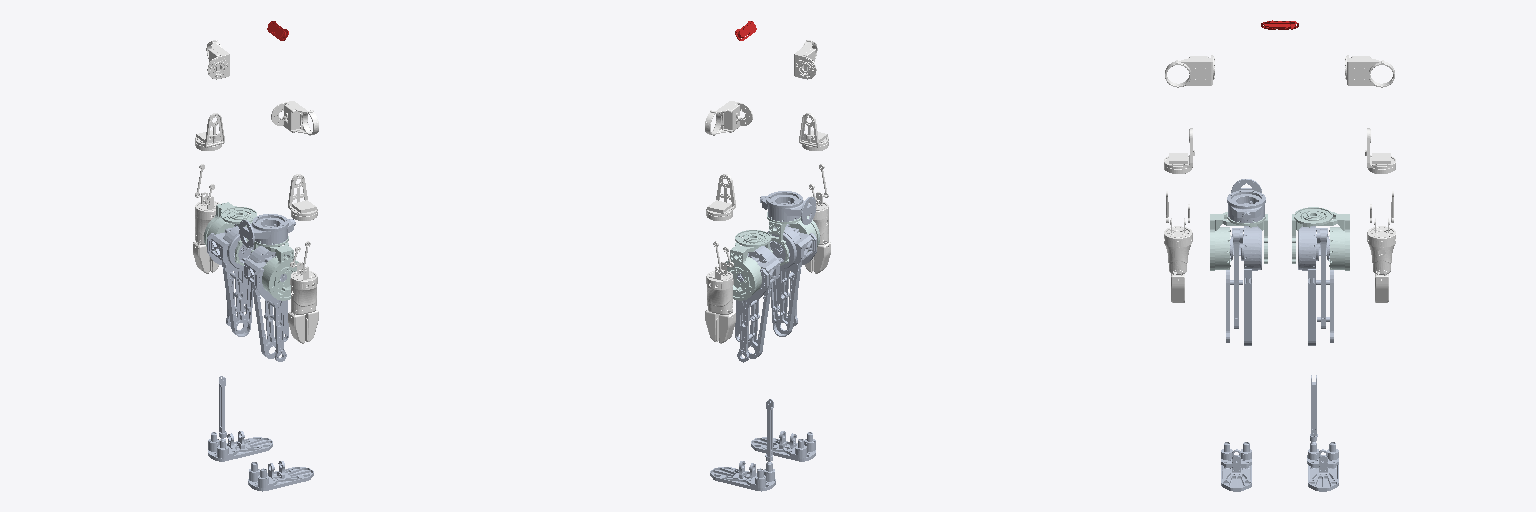
--- Render facts (derived) ---
3 views of the same robot in one strip: view 1: azimuth 30°, elevation 25°; view 2: azimuth 150°, elevation 25°; view 3: azimuth 270°, elevation 25° (orthographic).
Robot: kuavo_with_finger — 51 links, 50 joints (14 revolute, 28 continuous, 2 prismatic, 6 fixed); root link dummy; default pose: every joint at zero.
Visible links, largest first — view 1: l_leg_pitch, r_leg_pitch, r_leg_yaw, r_leg_roll, r_foot_roll, l_foot_roll, l_leg_yaw, r_arm_pitch, r_joller, r_forearm_pitch, l_arm_pitch, l_forearm_pitch; view 2: r_leg_pitch, l_leg_pitch, l_leg_yaw, r_leg_roll, l_foot_roll, r_foot_roll, l_arm_pitch, l_joller, l_forearm_pitch, r_leg_yaw, r_arm_pitch, r_forearm_pitch; view 3: l_leg_pitch, r_leg_pitch, l_leg_yaw, r_leg_yaw, r_leg_roll, l_foot_roll, r_foot_roll, l_arm_pitch, r_arm_pitch, l_joller, r_joller, l_forearm_pitch (+1 smaller).
Boxes of the visible links, box(x1,y1,x2,y2) form: l_leg_pitch: box(207, 224, 258, 336); r_leg_pitch: box(244, 246, 288, 361); r_leg_yaw: box(251, 236, 299, 300); r_leg_roll: box(239, 214, 295, 247); r_foot_roll: box(248, 461, 313, 491); l_foot_roll: box(208, 431, 272, 461); l_leg_yaw: box(204, 202, 258, 265); r_arm_pitch: box(271, 101, 318, 135); r_joller: box(290, 271, 317, 314); r_forearm_pitch: box(288, 174, 317, 220); l_arm_pitch: box(206, 40, 229, 79); l_forearm_pitch: box(195, 113, 224, 150); r_leg_pitch: box(765, 224, 816, 336); l_leg_pitch: box(735, 246, 779, 362); l_leg_yaw: box(724, 230, 772, 300); r_leg_roll: box(760, 191, 815, 224); l_foot_roll: box(710, 461, 775, 491); r_foot_roll: box(751, 431, 815, 461); l_arm_pitch: box(705, 101, 752, 135); l_joller: box(706, 271, 733, 314); l_forearm_pitch: box(706, 174, 735, 220); r_leg_yaw: box(765, 212, 819, 265); r_arm_pitch: box(794, 40, 817, 79); r_forearm_pitch: box(799, 113, 828, 150); l_leg_pitch: box(1298, 226, 1333, 345); r_leg_pitch: box(1226, 226, 1261, 345); l_leg_yaw: box(1292, 207, 1349, 270); r_leg_yaw: box(1210, 212, 1267, 270); r_leg_roll: box(1227, 179, 1265, 222); l_foot_roll: box(1307, 442, 1338, 491); r_foot_roll: box(1221, 442, 1251, 491); l_arm_pitch: box(1345, 55, 1394, 87); r_arm_pitch: box(1165, 55, 1214, 87); l_joller: box(1367, 226, 1395, 275); r_joller: box(1164, 226, 1192, 275); l_forearm_pitch: box(1365, 128, 1395, 173).
Bounding box of the posed robot: 0.1955 × 0.604 × 1.33 m (x, y, z).
Meshes: 50 distinct files referenced, 25 mesh visuals loaded (25 binary STL); not drawn: 25 (reference not matched to a file when rendering).

URDF robot description (kuavo_with_finger):
<?xml version="1.0" encoding="utf-8"?>
<!-- This URDF was automatically created by SolidWorks to URDF Exporter! Originally created by Stephen Brawner ([email redacted]) 
     Commit Version: 1.6.0-4-g7f85cfe  Build Version: 1.6.7995.38578
     For more information, please see http://wiki.ros.org/sw_urdf_exporter -->
<robot
  name="kuavo_with_finger">
  <link name="dummy"> 
  </link>
  <link
    name="base_link">
    <inertial>
      <origin
        xyz="-0.00699293960383693 0.0015563322026791 0.152865943474551"
        rpy="0 0 0" />
      <mass
        value="7.71324827879796" />
      <inertia
        ixx="0.0426865291661996"
        ixy="1.85724164384347E-06"
        ixz="0.0010941107421191"
        iyy="0.0204121253968209"
        iyz="-3.14875771305023E-06"
        izz="0.0372747742848548" />
    </inertial>
    <visual>
      <origin
        xyz="0 0 0"
        rpy="0 0 0" />
      <geometry>
        <mesh
          filename="package://kuavo_with_finger/meshes/base_link.STL" />
      </geometry>
      <material
        name="">
        <color
          rgba="0.862745098039216 0.933333333333333 0.929411764705882 1" />
      </material>
    </visual>
    <collision>
      <origin
        xyz="0 0 0"
        rpy="0 0 0" />
      <geometry>
        <mesh
          filename="package://kuavo_with_finger/meshes/base_link.STL" />
      </geometry>
    </collision>
  </link>
  <joint name="dummy_joint" type="fixed">
     <parent link="dummy"/>
     <child link="base_link"/>
  </joint>
  <link
    name="l_leg_roll">
    <inertial>
      <origin
        xyz="0.0607642758367597 0.000140341287204124 0.00228371917512797"
        rpy="0 0 0" />
      <mass
        value="0.118529537524385" />
      <inertia
        ixx="0.000100527370735922"
        ixy="-1.2100126944566E-09"
        ixz="-5.73994022636998E-06"
        iyy="0.000266846737510275"
        iyz="-1.09965529112337E-07"
        izz="0.000326428442604199" />
    </inertial>
    <visual>
      <origin
        xyz="0 0 0"
        rpy="0 0 0" />
      <geometry>
        <mesh
          filename="package://kuavo_with_finger/meshes/l_leg_roll.STL" />
      </geometry>
      <material
        name="">
        <color
          rgba="0.862745098039216 0.933333333333333 0.929411764705882 1" />
      </material>
    </visual>
    <collision>
      <origin
        xyz="0 0 0"
        rpy="0 0 0" />
      <geometry>
        <mesh
          filename="package://kuavo_with_finger/meshes/l_leg_roll.STL" />
      </geometry>
    </collision>
  </link>
  <joint
    name="l_leg_roll"
    type="continuous">
    <origin
      xyz="-0.0756149468145449 0.087 -0.0720754569616772"
      rpy="0 0 0" />
    <parent
      link="base_link" />
    <child
      link="l_leg_roll" />
    <axis
      xyz="-1 0 0" />
  </joint>
  <link
    name="l_leg_yaw">
    <inertial>
      <origin
        xyz="0.000290902697264875 0.0405087424467619 -0.100846923361789"
        rpy="0 0 0" />
      <mass
        value="0.20405278020544" />
      <inertia
        ixx="0.000304319732135482"
        ixy="6.81277324993583E-07"
        ixz="5.1435329520149E-07"
        iyy="0.000364082147695824"
        iyz="2.16417948537574E-06"
        izz="0.000267287713044087" />
    </inertial>
    <visual>
      <origin
        xyz="0 0 0"
        rpy="0 0 0" />
      <geometry>
        <mesh
          filename="package://kuavo_with_finger/meshes/l_leg_yaw.STL" />
      </geometry>
      <material
        name="">
        <color
          rgba="0.862745098039216 0.933333333333333 0.929411764705882 1" />
      </material>
    </visual>
    <collision>
      <origin
        xyz="0 0 0"
        rpy="0 0 0" />
      <geometry>
        <mesh
          filename="package://kuavo_with_finger/meshes/l_leg_yaw.STL" />
      </geometry>
    </collision>
  </link>
  <joint
    name="l_leg_yaw"
    type="continuous">
    <origin
      xyz="0.0735 0 0.0130000000000001"
      rpy="0 0 0" />
    <parent
      link="l_leg_roll" />
    <child
      link="l_leg_yaw" />
    <axis
      xyz="0 0 1" />
  </joint>
  <link
    name="l_leg_pitch">
    <inertial>
      <origin
        xyz="-0.00528235933691827 -0.0878849862537982 -0.0568009986671622"
        rpy="0 0 0" />
      <mass
        value="0.45065011418642" />
      <inertia
        ixx="0.00148456678733155"
        ixy="-2.29184752662021E-05"
        ixz="0.000131476982175566"
        iyy="0.00177807990369305"
        iyz="7.48554604302085E-06"
        izz="0.000394925298656241" />
    </inertial>
    <visual>
      <origin
        xyz="0 0 0"
        rpy="0 0 0" />
      <geometry>
        <mesh
          filename="package://kuavo_with_finger/meshes/l_leg_pitch.STL" />
      </geometry>
      <material
        name="">
        <color
          rgba="0.807843137254902 0.843137254901961 0.905882352941176 1" />
      </material>
    </visual>
    <collision>
      <origin
        xyz="0 0 0"
        rpy="0 0 0" />
      <geometry>
        <mesh
          filename="package://kuavo_with_finger/meshes/l_leg_pitch.STL" />
      </geometry>
    </collision>
  </link>
  <joint
    name="l_leg_pitch"
    type="continuous">
    <origin
      xyz="0 0.0939999999999999 -0.13645"
      rpy="0 0 0" />
    <parent
      link="l_leg_yaw" />
    <child
      link="l_leg_pitch" />
    <axis
      xyz="0 -1 0" />
  </joint>
  <link
    name="l_knee">
    <inertial>
      <origin
        xyz="0.000868873637859802 -5.03011046766866E-05 -0.13314742049396"
        rpy="0 0 0" />
      <mass
        value="0.817175320465059" />
      <inertia
        ixx="0.00786383933470877"
        ixy="-3.13623718617459E-08"
        ixz="-7.89544117443064E-05"
        iyy="0.00810808189051411"
        iyz="-6.80654926871359E-05"
        izz="0.000441233410542845" />
    </inertial>
    <visual>
      <origin
        xyz="0 0 0"
        rpy="0 0 0" />
      <geometry>
        <mesh
          filename="package://kuavo_with_finger/meshes/l_knee.STL" />
      </geometry>
      <material
        name="">
        <color
          rgba="0.898039215686275 0.917647058823529 0.929411764705882 1" />
      </material>
    </visual>
    <collision>
      <origin
        xyz="0 0 0"
        rpy="0 0 0" />
      <geometry>
        <mesh
          filename="package://kuavo_with_finger/meshes/l_knee.STL" />
      </geometry>
    </collision>
  </link>
  <joint
    name="l_knee"
    type="continuous">
    <origin
      xyz="0.00413596009601052 -0.0686389599620252 -0.249965785326798"
      rpy="0 0 0" />
    <parent
      link="l_leg_pitch" />
    <child
      link="l_knee" />
    <axis
      xyz="0 1 0" />
  </joint>
  <link
    name="l_foot_pitch">
    <inertial>
      <origin
        xyz="-2.2094915482114E-07 -0.0210002209491548 0.000142421968554962"
        rpy="0 0 0" />
      <mass
        value="0.00898868764931505" />
      <inertia
        ixx="8.64757693496474E-07"
        ixy="4.38814004225991E-16"
        ixz="3.49395618884054E-11"
        iyy="8.64757693496479E-07"
        iyz="-3.54041160032427E-11"
        izz="1.52124214524266E-06" />
    </inertial>
    <visual>
      <origin
        xyz="0 0 0"
        rpy="0 0 0" />
      <geometry>
        <mesh
          filename="package://kuavo_with_finger/meshes/l_foot_pitch.STL" />
      </geometry>
      <material
        name="">
        <color
          rgba="0.807843137254902 0.843137254901961 0.905882352941176 1" />
      </material>
    </visual>
    <collision>
      <origin
        xyz="0 0 0"
        rpy="0 0 0" />
      <geometry>
        <mesh
          filename="package://kuavo_with_finger/meshes/l_foot_pitch.STL" />
      </geometry>
    </collision>
  </link>
  <joint
    name="l_foot_pitch"
    type="continuous">
    <origin
      xyz="9.39839333040909E-05 0.0209999999999999 -0.346142421968556"
      rpy="0 0 0" />
    <parent
      link="l_knee" />
    <child
      link="l_foot_pitch" />
    <axis
      xyz="0 -1 0" />
  </joint>
  <link
    name="l_foot_roll">
    <inertial>
      <origin
        xyz="-0.0432253086252035 -8.8310914127393E-06 -0.023190030964678"
        rpy="0 0 0" />
      <mass
        value="0.48595336841054" />
      <inertia
        ixx="0.000157873471834251"
        ixy="1.96472635084538E-08"
        ixz="2.65605381022489E-06"
        iyy="0.000645275398662567"
        iyz="1.31456982241223E-08"
        izz="0.000765587215075718" />
    </inertial>
    <visual>
      <origin
        xyz="0 0 0"
        rpy="0 0 0" />
      <geometry>
        <mesh
          filename="package://kuavo_with_finger/meshes/l_foot_roll.STL" />
      </geometry>
      <material
        name="">
        <color
          rgba="0.807843137254902 0.843137254901961 0.905882352941176 1" />
      </material>
    </visual>
    <collision>
      <origin
        xyz="0 0 0"
        rpy="0 0 0" />
      <geometry>
        <mesh
          filename="package://kuavo_with_finger/meshes/l_foot_roll.STL" />
      </geometry>
    </collision>
  </link>
  <joint
    name="l_foot_roll"
    type="continuous">
    <origin
      xyz="0.021 -0.021 0.000142421968555073"
      rpy="0 0 0" />
    <parent
      link="l_foot_pitch" />
    <child
      link="l_foot_roll" />
    <axis
      xyz="-1 0 0" />
  </joint>
  <link
    name="l_l_bar">
    <inertial>
      <origin
        xyz="-0.0181620534088889 0.00538550541831453 0.00188897487292894"
        rpy="0 0 0" />
      <mass
        value="0.00874829869457795" />
      <inertia
        ixx="1.10769540266514E-06"
        ixy="-5.91415258727675E-07"
        ixz="4.29488265882082E-07"
        iyy="5.99983084859914E-06"
        iyz="6.15112516111373E-08"
        izz="5.19245227970593E-06" />
    </inertial>
    <visual>
      <origin
        xyz="0 0 0"
        rpy="0 0 0" />
      <geometry>
        <mesh
          filename="package://kuavo_with_finger/meshes/l_l_bar.STL" />
      </geometry>
      <material
        name="">
        <color
          rgba="0.807843137254902 0.843137254901961 0.905882352941176 1" />
      </material>
    </visual>
    <collision>
      <origin
        xyz="0 0 0"
        rpy="0 0 0" />
      <geometry>
        <mesh
          filename="package://kuavo_with_finger/meshes/l_l_bar.STL" />
      </geometry>
    </collision>
  </link>
  <joint
    name="l_l_bar"
    type="continuous">
    <origin
      xyz="9.39839333040753E-05 0.0294999999999999 -0.090000000000001"
      rpy="0 0 0" />
    <parent
      link="l_knee" />
    <child
      link="l_l_bar" />
    <axis
      xyz="0 -1 0" />
  </joint>
  <link
    name="l_l_tendon">
    <inertial>
      <origin
        xyz="0.00118321709757755 3.75294202367704E-06 -0.20744528844336"
        rpy="0 0 0" />
      <mass
        value="0.083522124317674" />
      <inertia
        ixx="0.000108457869310121"
        ixy="6.02846811569607E-13"
        ixz="3.21348766559875E-09"
        iyy="0.000108256478541275"
        iyz="-5.12951685911342E-08"
        izz="3.33663310062301E-06" />
    </inertial>
    <visual>
      <origin
        xyz="0 0 0"
        rpy="0 0 0" />
      <geometry>
        <mesh
          filename="package://kuavo_with_finger/meshes/l_l_tendon.STL" />
      </geometry>
      <material
        name="">
        <color
          rgba="0.807843137254902 0.843137254901961 0.905882352941176 1" />
      </material>
    </visual>
    <collision>
      <origin
        xyz="0 0 0"
        rpy="0 0 0" />
      <geometry>
        <mesh
          filename="package://kuavo_with_finger/meshes/l_l_tendon.STL" />
      </geometry>
    </collision>
  </link>
  <joint
    name="l_l_tendon"
    type="continuous">
    <origin
      xyz="-0.0576888204074241 -0.00450000000000017 0.00599999999999978"
      rpy="0 0 0" />
    <parent
      link="l_l_bar" />
    <child
      link="l_l_tendon" />
    <axis
      xyz="0 1 0" />
  </joint>
  <link
    name="l_r_bar">
    <inertial>
      <origin
        xyz="-0.0181620475591471 -0.00340146093872844 0.00188896088462942"
        rpy="0 0 0" />
      <mass
        value="0.00874829655091911" />
      <inertia
        ixx="1.10769463312904E-06"
        ixy="5.9141495517061E-07"
        ixz="4.29484605237304E-07"
        iyy="5.99982880791329E-06"
        iyz="-6.15105156434383E-08"
        izz="5.19245102488259E-06" />
    </inertial>
    <visual>
      <origin
        xyz="0 0 0"
        rpy="0 0 0" />
      <geometry>
        <mesh
          filename="package://kuavo_with_finger/meshes/l_r_bar.STL" />
      </geometry>
      <material
        name="">
        <color
          rgba="0.807843137254902 0.843137254901961 0.905882352941176 1" />
      </material>
    </visual>
    <collision>
      <origin
        xyz="0 0 0"
        rpy="0 0 0" />
      <geometry>
        <mesh
          filename="package://kuavo_with_finger/meshes/l_r_bar.STL" />
      </geometry>
    </collision>
  </link>
  <joint
    name="l_r_bar"
    type="continuous">
    <origin
      xyz="9.39839333042539E-05 -0.0295 -0.153000000000001"
      rpy="0 0 0" />
    <parent
      link="l_knee" />
    <child
      link="l_r_bar" />
    <axis
      xyz="0 1 0" />
  </joint>
  <link
    name="l_r_tendon">
    <inertial>
      <origin
        xyz="0.00127016481106113 -0.000442399471844768 -0.157756039462114"
        rpy="0 0 0" />
      <mass
        value="0.0780668768936421" />
      <inertia
        ixx="4.62186588509114E-05"
        ixy="-1.94286496924929E-08"
        ixz="-2.70858374718146E-09"
        iyy="4.61278857103081E-05"
        iyz="3.666117089417E-08"
        izz="3.1548728466647E-06" />
    </inertial>
    <visual>
      <origin
        xyz="0 0 0"
        rpy="0 0 0" />
      <geometry>
        <mesh
          filename="package://kuavo_with_finger/meshes/l_r_tendon.STL" />
      </geometry>
      <material
        name="">
        <color
          rgba="0.807843137254902 0.843137254901961 0.905882352941176 1" />
      </material>
    </visual>
    <collision>
      <origin
        xyz="0 0 0"
        rpy="0 0 0" />
      <geometry>
        <mesh
          filename="package://kuavo_with_finger/meshes/l_r_tendon.STL" />
      </geometry>
    </collision>
  </link>
  <joint
    name="l_r_tendon"
    type="continuous">
    <origin
      xyz="-0.0576888204074239 0.00508602348130947 0.00600000000000012"
      rpy="0 0 0" />
    <parent
      link="l_r_bar" />
    <child
      link="l_r_tendon" />
    <axis
      xyz="0 -1 0" />
  </joint>
  <link
    name="r_leg_roll">
    <inertial>
      <origin
        xyz="0.0607646044341523 -0.000140365546816248 0.0022837710143182"
        rpy="0 0 0" />
      <mass
        value="0.11853067519234" />
      <inertia
        ixx="0.000100528224800769"
        ixy="8.5926722391623E-10"
        ixz="-5.74007648393741E-06"
        iyy="0.000266849167485496"
        iyz="1.09990636769441E-07"
        izz="0.000326431795353994" />
    </inertial>
    <visual>
      <origin
        xyz="0 0 0"
        rpy="0 0 0" />
      <geometry>
        <mesh
          filename="package://kuavo_with_finger/meshes/r_leg_roll.STL" />
      </geometry>
      <material
        name="">
        <color
          rgba="0.807843137254902 0.843137254901961 0.905882352941176 1" />
      </material>
    </visual>
    <collision>
      <origin
        xyz="0 0 0"
        rpy="0 0 0" />
      <geometry>
        <mesh
          filename="package://kuavo_with_finger/meshes/r_leg_roll.STL" />
      </geometry>
    </collision>
  </link>
  <joint
    name="r_leg_roll"
    type="continuous">
    <origin
      xyz="-0.0756149468145449 -0.087 -0.0720754569616772"
      rpy="0 0 0" />
    <parent
      link="base_link" />
    <child
      link="r_leg_roll" />
    <axis
      xyz="-1 0 0" />
  </joint>
  <link
    name="r_leg_yaw">
    <inertial>
      <origin
        xyz="0.000290901694932055 -0.0405086843275825 -0.100847259224443"
        rpy="0 0 0" />
      <mass
        value="0.204051628397563" />
      <inertia
        ixx="0.000304316594072443"
        ixy="-6.81313422907995E-07"
        ixz="5.14348465322561E-07"
        iyy="0.000364082222889467"
        iyz="-2.16425891305067E-06"
        izz="0.000267284560559922" />
    </inertial>
    <visual>
      <origin
        xyz="0 0 0"
        rpy="0 0 0" />
      <geometry>
        <mesh
          filename="package://kuavo_with_finger/meshes/r_leg_yaw.STL" />
      </geometry>
      <material
        name="">
        <color
          rgba="0.862745098039216 0.933333333333333 0.929411764705882 1" />
      </material>
    </visual>
    <collision>
      <origin
        xyz="0 0 0"
        rpy="0 0 0" />
      <geometry>
        <mesh
          filename="package://kuavo_with_finger/meshes/r_leg_yaw.STL" />
      </geometry>
    </collision>
  </link>
  <joint
    name="r_leg_yaw"
    type="continuous">
    <origin
      xyz="0.0735 0 0.0130000000000001"
      rpy="0 0 0" />
    <parent
      link="r_leg_roll" />
    <child
      link="r_leg_yaw" />
    <axis
      xyz="0 0 1" />
  </joint>
  <link
    name="r_leg_pitch">
    <inertial>
      <origin
        xyz="-0.00530844800069375 0.0879625104980525 -0.0562054035446188"
        rpy="0 0 0" />
      <mass
        value="0.448539615819603" />
      <inertia
        ixx="0.00148436919411102"
        ixy="2.29187023974564E-05"
        ixz="0.000131477003903541"
        iyy="0.00177802513573774"
        iyz="-7.48524907415416E-06"
        izz="0.000394727717573666" />
    </inertial>
    <visual>
      <origin
        xyz="0 0 0"
        rpy="0 0 0" />
      <geometry>
        <mesh
          filename="package://kuavo_with_finger/meshes/r_leg_pitch.STL" />
      </geometry>
      <material
        name="">
        <color
          rgba="0.807843137254902 0.843137254901961 0.905882352941176 1" />
      </material>
    </visual>
    <collision>
      <origin
        xyz="0 0 0"
        rpy="0 0 0" />
      <geometry>
        <mesh
          filename="package://kuavo_with_finger/meshes/r_leg_pitch.STL" />
      </geometry>
    </collision>
  </link>
  <joint
    name="r_leg_pitch"
    type="continuous">
    <origin
      xyz="0 -0.094 -0.13645"
      rpy="0 0 0" />
    <parent
      link="r_leg_yaw" />
    <child
      link="r_leg_pitch" />
    <axis
      xyz="0 -1 0" />
  </joint>
  <link
    name="r_knee">
    <inertial>
      <origin
        xyz="0.000566315767979648 -0.000357175271787816 -0.138852368476044"
        rpy="0 0 0" />
      <mass
        value="0.345443991337626" />
      <inertia
        ixx="0.00281310613866549"
        ixy="1.11070732712129E-08"
        ixz="-2.80899108975024E-05"
        iyy="0.00291126127187274"
        iyz="2.42218525823219E-05"
        izz="0.000171958211692171" />
    </inertial>
    <visual>
      <origin
        xyz="0 0 0"
        rpy="0 0 0" />
      <geometry>
        <mesh
          filename="package://kuavo_with_finger/meshes/r_knee.STL" />
      </geometry>
      <material
        name="">
        <color
          rgba="0.807843137254902 0.843137254901961 0.905882352941176 1" />
      </material>
    </visual>
    <collision>
      <origin
        xyz="0 0 0"
        rpy="0 0 0" />
      <geometry>
        <mesh
          filename="package://kuavo_with_finger/meshes/r_knee.STL" />
      </geometry>
    </collision>
  </link>
  <joint
    name="r_knee"
    type="continuous">
    <origin
      xyz="0.00413596009601069 0.0685500000000013 -0.249965785326798"
      rpy="0 0 0" />
    <parent
      link="r_leg_pitch" />
    <child
      link="r_knee" />
    <axis
      xyz="0 -1 0" />
  </joint>
  <link
    name="r_foot_pitch">
    <inertial>
      <origin
        xyz="-2.20949154777772E-07 0.0210002209491547 -1.11022302462516E-16"
        rpy="0 0 0" />
      <mass
        value="0.00898868764931501" />
      <inertia
        ixx="8.64757693496473E-07"
        ixy="-4.3881326068459E-16"
        ixz="-3.4939561888581E-11"
        iyy="8.64757693496477E-07"
        iyz="-3.44750077743079E-11"
        izz="1.52124214524266E-06" />
    </inertial>
    <visual>
      <origin
        xyz="0 0 0"
        rpy="0 0 0" />
      <geometry>
        <mesh
          filename="package://kuavo_with_finger/meshes/r_foot_pitch.STL" />
      </geometry>
      <material
        name="">
        <color
          rgba="0.807843137254902 0.843137254901961 0.905882352941176 1" />
      </material>
    </visual>
    <collision>
      <origin
        xyz="0 0 0"
        rpy="0 0 0" />
      <geometry>
        <mesh
          filename="package://kuavo_with_finger/meshes/r_foot_pitch.STL" />
      </geometry>
    </collision>
  </link>
  <joint
    name="r_foot_pitch"
    type="continuous">
    <origin
      xyz="0 -0.021 -0.346000000000001"
      rpy="0 0 0" />
    <parent
      link="r_knee" />
    <child
      link="r_foot_pitch" />
    <axis
      xyz="0 -1 0" />
  </joint>
  <link
    name="r_foot_roll">
    <inertial>
      <origin
        xyz="-0.0480333310327909 6.50581714088661E-06 -0.0208399753329805"
        rpy="0 0 0" />
      <mass
        value="0.235882377040623" />
      <inertia
        ixx="7.44704948330087E-05"
        ixy="-1.32306351261612E-08"
        ixz="2.64137221389746E-06"
        iyy="0.000241939144027172"
        iyz="-4.67780047970368E-09"
        izz="0.000291936005980864" />
    </inertial>
    <visual>
      <origin
        xyz="0 0 0"
        rpy="0 0 0" />
      <geometry>
        <mesh
          filename="package://kuavo_with_finger/meshes/r_foot_roll.STL" />
      </geometry>
      <material
        name="">
        <color
          rgba="0.807843137254902 0.843137254901961 0.905882352941176 1" />
      </material>
    </visual>
    <collision>
      <origin
        xyz="0 0 0"
        rpy="0 0 0" />
      <geometry>
        <mesh
          filename="package://kuavo_with_finger/meshes/r_foot_roll.STL" />
      </geometry>
    </collision>
  </link>
  <joint
    name="r_foot_roll"
    type="continuous">
    <origin
      xyz="0.021 0.0209999999999999 0"
      rpy="0 0 0" />
    <parent
      link="r_foot_pitch" />
    <child
      link="r_foot_roll" />
    <axis
      xyz="-1 0 0" />
  </joint>
  <link
    name="r_r_bar">
    <inertial>
      <origin
        xyz="-0.0181620509501375 -0.0054502400147324 0.00188897513882791"
        rpy="0 0 0" />
      <mass
        value="0.00874829774758129" />
      <inertia
        ixx="1.10769527904973E-06"
        ixy="5.91415050956591E-07"
        ixz="4.29488315443609E-07"
        iyy="5.99983036821143E-06"
        iyz="-6.15112771413719E-08"
        izz="5.19245168309841E-06" />
    </inertial>
    <visual>
      <origin
        xyz="0 0 0"
        rpy="0 0 0" />
      <geometry>
        <mesh
          filename="package://kuavo_with_finger/meshes/r_r_bar.STL" />
      </geometry>
      <material
        name="">
        <color
          rgba="0.807843137254902 0.843137254901961 0.905882352941176 1" />
      </material>
    </visual>
    <collision>
      <origin
        xyz="0 0 0"
        rpy="0 0 0" />
      <geometry>
        <mesh
          filename="package://kuavo_with_finger/meshes/r_r_bar.STL" />
      </geometry>
    </collision>
  </link>
  <joint
    name="r_r_bar"
    type="continuous">
    <origin
      xyz="0 -0.0294999999999999 -0.0900000000000002"
      rpy="0 0 0" />
    <parent
      link="r_knee" />
    <child
      link="r_r_bar" />
    <axis
      xyz="0 -1 0" />
  </joint>
  <link
    name="r_r_tendon">
    <inertial>
      <origin
        xyz="0.000958289233327532 -8.67055798317584E-06 -0.188485184943548"
        rpy="0 0 0" />
      <mass
        value="0.053802691494778" />
      <inertia
        ixx="0.000105952067897388"
        ixy="-6.66037719248345E-13"
        ixz="3.21302195385027E-09"
        iyy="0.000105645697160704"
        iyz="5.12952984445407E-08"
        izz="2.0950392625887E-06" />
    </inertial>
    <visual>
      <origin
        xyz="0 0 0"
        rpy="0 0 0" />
      <geometry>
        <mesh
          filename="package://kuavo_with_finger/meshes/r_r_tendon.STL" />
      </geometry>
      <material
        name="">
        <color
          rgba="0.807843137254902 0.843137254901961 0.905882352941176 1" />
      </material>
    </visual>
    <collision>
      <origin
        xyz="0 0 0"
        rpy="0 0 0" />
      <geometry>
        <mesh
          filename="package://kuavo_with_finger/meshes/r_r_tendon.STL" />
      </geometry>
    </collision>
  </link>
  <joint
    name="r_r_tendon"
    type="continuous">
    <origin
      xyz="-0.0576888204074261 0.00450000000000034 0.00599999999999878"
      rpy="0 0 0" />
    <parent
      link="r_r_bar" />
    <child
      link="r_r_tendon" />
    <axis
      xyz="0 1 0" />
  </joint>
  <link
    name="r_l_bar">
    <inertial>
      <origin
        xyz="-0.018162043904016 0.00326676157003555 0.00188895977905879"
        rpy="0 0 0" />
      <mass
        value="0.00874829521108898" />
      <inertia
        ixx="1.10769435536613E-06"
        ixy="-5.91414611386557E-07"
        ixz="4.29484364884761E-07"
        iyy="5.99982796081405E-06"
        iyz="6.15104069682222E-08"
        izz="5.19245005096644E-06" />
    </inertial>
    <visual>
      <origin
        xyz="0 0 0"
        rpy="0 0 0" />
      <geometry>
        <mesh
          filename="package://kuavo_with_finger/meshes/r_l_bar.STL" />
      </geometry>
      <material
        name="">
        <color
          rgba="0.807843137254902 0.843137254901961 0.905882352941176 1" />
      </material>
    </visual>
    <collision>
      <origin
        xyz="0 0 0"
        rpy="0 0 0" />
      <geometry>
        <mesh
          filename="package://kuavo_with_finger/meshes/r_l_bar.STL" />
      </geometry>
    </collision>
  </link>
  <joint
    name="r_l_bar"
    type="continuous">
    <origin
      xyz="0 0.0294999999999999 -0.153000000000001"
      rpy="0 0 0" />
    <parent
      link="r_knee" />
    <child
      link="r_l_bar" />
    <axis
      xyz="0 -1 0" />
  </joint>
  <link
    name="r_l_tendon">
    <inertial>
      <origin
        xyz="0.00106510158954518 9.64944022313619E-06 -0.144838777247632"
        rpy="0 0 0" />
      <mass
        value="0.0483474436719092" />
      <inertia
        ixx="4.37091223763635E-05"
        ixy="-9.08749132601232E-13"
        ixz="-2.70856208055649E-09"
        iyy="4.35208260635416E-05"
        iyz="-3.66615376299583E-08"
        izz="1.91327900390017E-06" />
    </inertial>
    <visual>
      <origin
        xyz="0 0 0"
        rpy="0 0 0" />
      <geometry>
        <mesh
          filename="package://kuavo_with_finger/meshes/r_l_tendon.STL" />
      </geometry>
      <material
        name="">
        <color
          rgba="0.807843137254902 0.843137254901961 0.905882352941176 1" />
      </material>
    </visual>
    <collision>
      <origin
        xyz="0 0 0"
        rpy="0 0 0" />
      <geometry>
        <mesh
          filename="package://kuavo_with_finger/meshes/r_l_tendon.STL" />
      </geometry>
    </collision>
  </link>
  <joint
    name="r_l_tendon"
    type="continuous">
    <origin
      xyz="-0.0576888204074239 -0.00449999999999988 0.00600000000000001"
      rpy="0 0 0" />
    <parent
      link="r_l_bar" />
    <child
      link="r_l_tendon" />
    <axis
      xyz="0 1 0" />
  </joint>
  <link
    name="l_arm_pitch">
    <inertial>
      <origin
        xyz="0.0214306014937492 0.0894803474436048 0.000615912525740503"
        rpy="0 0 0" />
      <mass
        value="0.0855565384250596" />
      <inertia
        ixx="0.000130680980046145"
        ixy="-2.8051476508872E-05"
        ixz="-4.43154983770418E-08"
        iyy="6.72732423481097E-05"
        iyz="-1.04235209424077E-06"
        izz="0.000113833719965484" />
    </inertial>
    <visual>
      <origin
        xyz="0 0 0"
        rpy="0 0 0" />
      <geometry>
        <mesh
          filename="package://kuavo_with_finger/meshes/l_arm_pitch.STL" />
      </geometry>
      <material
        name="">
        <color
          rgba="1 1 1 1" />
      </material>
    </visual>
    <collision>
      <origin
        xyz="0 0 0"
        rpy="0 0 0" />
      <geometry>
        <mesh
          filename="package://kuavo_with_finger/meshes/l_arm_pitch.STL" />
      </geometry>
    </collision>
  </link>
  <joint
    name="l_arm_pitch"
    type="revolute">
    <origin
      xyz="-0.0174998525199999 0.121 0.3145"
      rpy="0 0 0" />
    <parent
      link="base_link" />
    <child
      link="l_arm_pitch" />
    <axis
      xyz="0 1 0" />
    <limit velocity="1" effort="20" lower="-3.14" upper="0.523"/>
  </joint>
  <link
    name="l_arm_roll">
    <inertial>
      <origin
        xyz="-0.035737115963316 0.000637394005623571 -0.00293587457508399"
        rpy="0 0 0" />
      <mass
        value="0.243859089022774" />
      <inertia
        ixx="0.000128360157970662"
        ixy="6.10295766830322E-06"
        ixz="-1.04763903813656E-05"
        iyy="0.000190119380770336"
        iyz="1.1072652385836E-06"
        izz="0.000178903820792462" />
    </inertial>
    <visual>
      <origin
        xyz="0 0 0"
        rpy="0 0 0" />
      <geometry>
        <mesh
          filename="package://kuavo_with_finger/meshes/l_arm_roll.STL" />
      </geometry>
      <material
        name="">
        <color
          rgba="1 1 1 1" />
      </material>
    </visual>
    <collision>
      <origin
        xyz="0 0 0"
        rpy="0 0 0" />
      <geometry>
        <mesh
          filename="package://kuavo_with_finger/meshes/l_arm_roll.STL" />
      </geometry>
    </collision>
  </link>
  <joint
    name="l_arm_roll"
    type="revolute">
    <origin
      xyz="0.0638750000000005 0.143475 0"
      rpy="0 0 0" />
    <parent
      link="l_arm_pitch" />
    <child
      link="l_arm_roll" />
    <axis
      xyz="1 0 0" />
    <limit velocity="1" effort="20" lower="-0.348" upper="2.35"/>
  </joint>
  <link
    name="l_arm_yaw">
    <inertial>
      <origin
        xyz="-0.00019675455352383 -0.00200221985054488 -0.0822363960198868"
        rpy="0 0 0" />
      <mass
        value="0.231645925727573" />
      <inertia
        ixx="7.15763821808342E-05"
        ixy="-7.20357840527438E-07"
        ixz="1.28796345240436E-07"
        iyy="0.000116064001916274"
        iyz="-3.2453966347911E-06"
        izz="0.000102450224641922" />
    </inertial>
    <visual>
      <origin
        xyz="0 0 0"
        rpy="0 0 0" />
      <geometry>
        <mesh
          filename="package://kuavo_with_finger/meshes/l_arm_yaw.STL" />
      </geometry>
      <material
        name="">
        <color
          rgba="1 1 1 1" />
      </material>
    </visual>
    <collision>
      <origin
        xyz="0 0 0"
        rpy="0 0 0" />
      <geometry>
        <mesh
          filename="package://kuavo_with_finger/meshes/l_arm_yaw.STL" />
      </geometry>
    </collision>
  </link>
  <joint
    name="l_arm_yaw"
    type="revolute">
    <origin
      xyz="-0.0436732904500001 -0.000228544867618807 -0.0507499999999994"
      rpy="0 0 0" />
    <parent
      link="l_arm_roll" />
    <child
      link="l_arm_yaw" />
    <axis
      xyz="0 0.0045033014816499 0.999989860086474" />
    <limit velocity="1" effort="20" lower="-2.35" upper="2.35"/>
  </joint>
  <link
    name="l_forearm_pitch">
    <inertial>
      <origin
        xyz="-1.76621857937709E-09 0.0247675246684129 -0.0702638649593729"
        rpy="0 0 0" />
      <mass
        value="0.100717925891199" />
      <inertia
        ixx="6.81753177964767E-05"
        ixy="-1.3166203142267E-12"
        ixz="-2.01946858558698E-12"
        iyy="6.38358674774756E-05"
        iyz="1.22265699624491E-05"
        izz="7.39768830554407E-05" />
    </inertial>
    <visual>
      <origin
        xyz="0 0 0"
        rpy="0 0 0" />
      <geometry>
        <mesh
          filename="package://kuavo_with_finger/meshes/l_forearm_pitch.STL" />
      </geometry>
      <material
        name="">
        <color
          rgba="1 1 1 1" />
      </material>
    </visual>
    <collision>
      <origin
        xyz="0 0 0"
        rpy="0 0 0" />
      <geometry>
        <mesh
          filename="package://kuavo_with_finger/meshes/l_forearm_pitch.STL" />
      </geometry>
    </collision>
  </link>
  <joint
    name="l_forearm_pitch"
    type="revolute">
    <origin
      xyz="0 -0.0300214551323814 -0.1357"
      rpy="0 0 0" />
    <parent
      link="l_arm_yaw" />
    <child
      link="l_forearm_pitch" />
    <axis
      xyz="0 1 0" />
    <limit velocity="1" effort="20" lower="-1.9" upper="1.9"/>
  </joint>
  <link
    name="l_forearm_yaw">
    <inertial>
      <origin
        xyz="-0.00399570091504529 2.98471488310303E-05 -0.0656133809823524"
        rpy="0 0 0" />
      <mass
        value="0.156174407901059" />
      <inertia
        ixx="7.01872239868557E-05"
        ixy="-1.62696734264429E-07"
        ixz="-4.54392258183021E-07"
        iyy="7.29165229929405E-05"
        iyz="-7.23258736814215E-09"
        izz="6.87979464480366E-05" />
    </inertial>
    <visual>
      <origin
        xyz="0 0 0"
        rpy="0 0 0" />
      <geometry>
        <mesh
          filename="package://kuavo_with_finger/meshes/l_forearm_yaw.STL" />
      </geometry>
      <material
        name="">
        <color
          rgba="1 1 1 1" />
      </material>
    </visual>
    <collision>
      <origin
        xyz="0 0 0"
        rpy="0 0 0" />
      <geometry>
        <mesh
          filename="package://kuavo_with_finger/meshes/l_forearm_yaw.STL" />
      </geometry>
    </collision>
  </link>
  <joint
    name="l_forearm_yaw"
    type="revolute">
    <origin
      xyz="0 0.0302500000000002 -0.0915499999999999"
      rpy="0 0 0" />
    <parent
      link="l_forearm_pitch" />
    <child
      link="l_forearm_yaw" />
    <axis
      xyz="0 0 1" />
    <limit velocity="1" effort="20" lower="-2.35" upper="2.35"/>
  </joint>
  <link
    name="l_hand_roll">
    <inertial>
      <origin
        xyz="0.0166010838376317 1.21699082866744E-07 1.73724289204147E-07"
        rpy="0 0 0" />
      <mass
        value="0.00225080087545489" />
      <inertia
        ixx="1.93486939049626E-07"
        ixy="1.34751407910919E-12"
        ixz="-9.12379114185387E-13"
        iyy="1.3659940311531E-07"
        iyz="2.34311788925206E-12"
        izz="3.17250990444323E-07" />
    </inertial>
    <visual>
      <origin
        xyz="0 0 0"
        rpy="0 0 0" />
      <geometry>
        <mesh
          filename="package://kuavo_with_finger/meshes/l_hand_roll.STL" />
      </geometry>
      <material
        name="">
        <color
          rgba="1 1 1 1" />
      </material>
    </visual>
    <collision>
      <origin
        xyz="0 0 0"
        rpy="0 0 0" />
      <geometry>
        <mesh
          filename="package://kuavo_with_finger/meshes/l_hand_roll.STL" />
      </geometry>
    </collision>
  </link>
  <joint
    name="l_hand_roll"
    type="revolute">
    <origin
      xyz="-0.02532161695 0 -0.1575"
      rpy="0 0 0" />
    <parent
      link="l_forearm_yaw" />
    <child
      link="l_hand_roll" />
    <axis
      xyz="1 0 0" />
    <limit velocity="1" effort="20" lower="-1.2" upper="0.87"/>
  </joint>
  <link
    name="l_hand_pitch">
    <inertial>
      <origin
        xyz="0.00113576945968793 -0.000753137258270087 -0.0189034701930564"
        rpy="0 0 0" />
      <mass
        value="0.0102905223772605" />
      <inertia
        ixx="3.31594083274313E-06"
        ixy="-1.76514797840652E-10"
        ixz="2.90800163574811E-07"
        iyy="3.18411152071818E-06"
        iyz="-7.83299650587701E-10"
        izz="4.0135649223669E-06" />
    </inertial>
    <visual>
      <origin
        xyz="0 0 0"
        rpy="0 0 0" />
      <geometry>
        <mesh
          filename="package://kuavo_with_finger/meshes/l_hand_pitch.STL" />
      </geometry>
      <material
        name="">
        <color
          rgba="1 1 1 1" />
      </material>
    </visual>
    <collision>
      <origin
        xyz="0 0 0"
        rpy="0 0 0" />
      <geometry>
        <mesh
          filename="package://kuavo_with_finger/meshes/l_hand_pitch.STL" />
      </geometry>
    </collision>
  </link>
  <joint
    name="l_hand_pitch"
    type="revolute">
    <origin
      xyz="0.0213699999998786 0 0"
      rpy="0 0 0" />
    <parent
      link="l_hand_roll" />
    <child
      link="l_hand_pitch" />
    <axis
      xyz="0 1 0" />
    <limit velocity="1" effort="20" lower="-0.34" upper="0.34"/>
  </joint>
  <link
    name="l_joller">
    <inertial>
      <origin
        xyz="-0.000760448965223266 -4.45665064296996E-08 -0.0464348206313494"
        rpy="0 0 0" />
      <mass
        value="0.371687924725012" />
      <inertia
        ixx="0.000270379303080603"
        ixy="-2.48225804483439E-09"
        ixz="-4.51466251845003E-07"
        iyy="0.000309394348465809"
        iyz="3.37682805504423E-10"
        izz="0.00022559048986526" />
    </inertial>
    <visual>
      <origin
        xyz="0 0 0"
        rpy="0 0 0" />
      <geometry>
        <mesh
          filename="package://kuavo_with_finger/meshes/l_joller.STL" />
      </geometry>
      <material
        name="">
        <color
          rgba="1 1 1 1" />
      </material>
    </visual>
    <collision>
      <origin
        xyz="0 0 0"
        rpy="0 0 0" />
      <geometry>
        <mesh
          filename="package://kuavo_with_finger/meshes/l_joller.STL" />
      </geometry>
    </collision>
  </link>
  <joint
    name="l_joller"
    type="fixed">
    <origin
      xyz="0.00350657147881663 0 -0.0300550570864915"
      rpy="0 0 0" />
    <parent
      link="l_hand_pitch" />
    <child
      link="l_joller" />
    <axis
      xyz="0 0 0" />
  </joint>

  <!-- modified here -->

  <link
    name="l_font_finger">
    <inertial>
      <origin
        xyz="-0.0190918101135502 1.87523135630752E-07 -0.0272508392440874"
        rpy="0 0 0" />
      <mass
        value="0.0498433554773493" />
      <inertia
        ixx="3.64406812422825E-05"
        ixy="2.56817119162209E-12"
        ixz="-3.3521541747171E-06"
        iyy="3.45508679156559E-05"
        iyz="3.38606373246757E-10"
        izz="1.20320437608827E-05" />
    </inertial>
    <visual>
      <origin
        xyz="0 0 0"
        rpy="0 0 0" />
      <geometry>
        <mesh
          filename="package://kuavo_with_finger/meshes/l_font_finger.STL" />
      </geometry>
      <material
        name="">
        <color
          rgba="1 1 1 1" />
      </material>
    </visual>
    <collision>
      <origin
        xyz="0 0 0"
        rpy="0 0 0" />
      <geometry>
        <mesh
          filename="package://kuavo_with_finger/meshes/l_font_finger.STL" />
      </geometry>
    </collision>
  </link>
  <joint
    name="l_font_finger"
    type="prismatic">
    <origin
      xyz="0.035169 0 -0.11413"
      rpy="0 0 0" />
    <parent
      link="l_joller" />
    <child
      link="l_font_finger" />
    <axis
      xyz=" 1 0 0" />
    <limit
      effort="20"
      velocity="0.2"
      lower="0.00"
      upper="0.02" />
  </joint>
  <link
    name="l_back_finger">
    <inertial>
      <origin
        xyz="0.0182787404035393 -3.09302355394614E-07 -0.0278031676135467"
        rpy="0 0 0" />
      <mass
        value="0.0498439560356659" />
      <inertia
        ixx="3.66180814593124E-05"
        ixy="-8.07852009841604E-12"
        ixz="2.62582748875071E-06"
        iyy="3.45515937983617E-05"
        iyz="-5.41738624616319E-10"
        izz="1.18555047823034E-05" />
    </inertial>
    <visual>
      <origin
        xyz="0 0 0"
        rpy="0 0 0" />
      <geometry>
        <mesh
          filename="package://kuavo_with_finger/meshes/l_back_finger.STL" />
      </geometry>
      <material
        name="">
        <color
          rgba="1 1 1 1" />
      </material>
    </visual>
    <collision>
      <origin
        xyz="0 0 0"
        rpy="0 0 0" />
      <geometry>
        <mesh
          filename="package://kuavo_with_finger/meshes/l_back_finger.STL" />
      </geometry>
    </collision>
  </link>
  <joint
    name="l_back_finger"
    type="prismatic">
    <origin
      xyz="-0.038523 0 -0.11304"
      rpy="0 0 0" />
    <parent
      link="l_joller" />
    <child
      link="l_back_finger" />
    <axis
      xyz="-1 0 0" />
    <limit
      effort="20"
      velocity="0.2"
      lower="0.00"
      upper="0.02" />
    <mimic joint="l_font_finger" />
  </joint>

  <!-- end modify -->

  <link
    name="l_l_arm_bar">
    <inertial>
      <origin
        xyz="-0.00554151988939612 -0.00107110718268383 8.01142280862713E-05"
        rpy="0 0 0" />
      <mass
        value="0.000933425350872018" />
      <inertia
        ixx="1.38437797350521E-08"
        ixy="5.67273670990801E-09"
        ixz="5.77608583056804E-10"
        iyy="6.06871251723769E-08"
        iyz="-8.20112615845585E-11"
        izz="5.37887818257275E-08" />
    </inertial>
    <visual>
      <origin
        xyz="0 0 0"
        rpy="0 0 0" />
      <geometry>
        <mesh
          filename="package://kuavo_with_finger/meshes/l_l_arm_bar.STL" />
      </geometry>
      <material
        name="">
        <color
          rgba="1 1 1 1" />
      </material>
    </visual>
    <collision>
      <origin
        xyz="0 0 0"
        rpy="0 0 0" />
      <geometry>
        <mesh
          filename="package://kuavo_with_finger/meshes/l_l_arm_bar.STL" />
      </geometry>
    </collision>
  </link>
  <joint
    name="l_l_arm_bar"
    type="continuous">
    <origin
      xyz="0.011299999998424 0.024140000000002 -0.0759999999999971"
      rpy="0 0 0" />
    <parent
      link="l_forearm_yaw" />
    <child
      link="l_l_arm_bar" />
    <axis
      xyz="0 -1 0" />
  </joint>
  <link
    name="l_l_arm_tendon">
    <inertial>
      <origin
        xyz="-0.00762563841089457 -0.000122279190808483 -0.0407419941889384"
        rpy="0 0 0" />
      <mass
        value="0.00374681809424582" />
      <inertia
        ixx="2.52757930323661E-06"
        ixy="-7.66111459785822E-10"
        ixz="-4.64401918338811E-07"
        iyy="2.64303514729516E-06"
        iyz="-4.31242332569497E-09"
        izz="1.3308429935593E-07" />
    </inertial>
    <visual>
      <origin
        xyz="0 0 0"
        rpy="0 0 0" />
      <geometry>
        <mesh
          filename="package://kuavo_with_finger/meshes/l_l_arm_tendon.STL" />
      </geometry>
      <material
        name="">
        <color
          rgba="1 1 1 1" />
      </material>
    </visual>
    <collision>
      <origin
        xyz="0 0 0"
        rpy="0 0 0" />
      <geometry>
        <mesh
          filename="package://kuavo_with_finger/meshes/l_l_arm_tendon.STL" />
      </geometry>
    </collision>
  </link>
  <joint
    name="l_l_arm_tendon"
    type="continuous">
    <origin
      xyz="-0.0159983282022835 0.0040000013363603 0.000231289282113974"
      rpy="0 0 0" />
    <parent
      link="l_l_arm_bar" />
    <child
      link="l_l_arm_tendon" />
    <axis
      xyz="0 1 0" />
  </joint>
  <link
    name="l_r_arm_bar">
    <inertial>
      <origin
        xyz="-0.00554152091378026 0.00107110716137979 8.00466218583845E-05"
        rpy="0 0 0" />
      <mass
        value="0.00093342533722621" />
      <inertia
        ixx="1.38437655830521E-08"
        ixy="-5.6727376312716E-09"
        ixz="5.77122731416832E-10"
        iyy="6.06871249427678E-08"
        iyz="8.19421766658829E-11"
        izz="5.37887956605657E-08" />
    </inertial>
    <visual>
      <origin
        xyz="0 0 0"
        rpy="0 0 0" />
      <geometry>
        <mesh
          filename="package://kuavo_with_finger/meshes/l_r_arm_bar.STL" />
      </geometry>
      <material
        name="">
        <color
          rgba="1 1 1 1" />
      </material>
    </visual>
    <collision>
      <origin
        xyz="0 0 0"
        rpy="0 0 0" />
      <geometry>
        <mesh
          filename="package://kuavo_with_finger/meshes/l_r_arm_bar.STL" />
      </geometry>
    </collision>
  </link>
  <joint
    name="l_r_arm_bar"
    type="continuous">
    <origin
      xyz="0.011300000004892 -0.024139999999997 -0.1145"
      rpy="0 0 0" />
    <parent
      link="l_forearm_yaw" />
    <child
      link="l_r_arm_bar" />
    <axis
      xyz="0 1 0" />
  </joint>
  <link
    name="l_r_arm_tendon">
    <inertial>
      <origin
        xyz="-0.00762833305911307 0.000142795973134019 -0.021488685180072"
        rpy="0 0 0" />
      <mass
        value="0.00269247094438198" />
      <inertia
        ixx="5.94953509692986E-07"
        ixy="9.09691856035776E-10"
        ixz="-1.9636524665428E-07"
        iyy="6.93164854255937E-07"
        iyz="1.78985741267606E-09"
        izz="1.11074492400416E-07" />
    </inertial>
    <visual>
      <origin
        xyz="0 0 0"
        rpy="0 0 0" />
      <geometry>
        <mesh
          filename="package://kuavo_with_finger/meshes/l_r_arm_tendon.STL" />
      </geometry>
      <material
        name="">
        <color
          rgba="1 1 1 1" />
      </material>
    </visual>
    <collision>
      <origin
        xyz="0 0 0"
        rpy="0 0 0" />
      <geometry>
        <mesh
          filename="package://kuavo_with_finger/meshes/l_r_arm_tendon.STL" />
      </geometry>
    </collision>
  </link>
  <joint
    name="l_r_arm_tendon"
    type="continuous">
    <origin
      xyz="-0.0159983310229197 -0.00400002806712421 0.000231094095741222"
      rpy="0 0 0" />
    <parent
      link="l_r_arm_bar" />
    <child
      link="l_r_arm_tendon" />
    <axis
      xyz="0 -1 0" />
  </joint>
  <link
    name="r_arm_pitch">
    <inertial>
      <origin
        xyz="0.0214306041026405 -0.0844803465442086 0.000615814708113505"
        rpy="0 0 0" />
      <mass
        value="0.085556493550571" />
      <inertia
        ixx="0.000130680921242486"
        ixy="2.80514667713823E-05"
        ixz="-4.43612197682295E-08"
        iyy="6.72732085095451E-05"
        iyz="1.04250551958736E-06"
        izz="0.000113833677598239" />
    </inertial>
    <visual>
      <origin
        xyz="0 0 0"
        rpy="0 0 0" />
      <geometry>
        <mesh
          filename="package://kuavo_with_finger/meshes/r_arm_pitch.STL" />
      </geometry>
      <material
        name="">
        <color
          rgba="1 1 1 1" />
      </material>
    </visual>
    <collision>
      <origin
        xyz="0 0 0"
        rpy="0 0 0" />
      <geometry>
        <mesh
          filename="package://kuavo_with_finger/meshes/r_arm_pitch.STL" />
      </geometry>
    </collision>
  </link>
  <joint
    name="r_arm_pitch"
    type="revolute">
    <origin
      xyz="-0.0174998525199999 -0.126 0.3145"
      rpy="0 0 0" />
    <parent
      link="base_link" />
    <child
      link="r_arm_pitch" />
    <axis
      xyz="0 1 0" />
    <limit velocity="1" effort="20" lower="-3.14" upper="0.523"/>
  </joint>
  <link
    name="r_arm_roll">
    <inertial>
      <origin
        xyz="-0.0357371168973825 -0.000637394797891544 -0.00293587513361748"
        rpy="0 0 0" />
      <mass
        value="0.24385908133804" />
      <inertia
        ixx="0.000128360143073782"
        ixy="-6.10295800980191E-06"
        ixz="-1.0476390047817E-05"
        iyy="0.000190119367974024"
        iyz="-1.10726166060552E-06"
        izz="0.000178903821203388" />
    </inertial>
    <visual>
      <origin
        xyz="0 0 0"
        rpy="0 0 0" />
      <geometry>
        <mesh
          filename="package://kuavo_with_finger/meshes/r_arm_roll.STL" />
      </geometry>
      <material
        name="">
        <color
          rgba="1 1 1 1" />
      </material>
    </visual>
    <collision>
      <origin
        xyz="0 0 0"
        rpy="0 0 0" />
      <geometry>
        <mesh
          filename="package://kuavo_with_finger/meshes/r_arm_roll.STL" />
      </geometry>
    </collision>
  </link>
  <joint
    name="r_arm_roll"
    type="revolute">
    <origin
      xyz="0.0638750000000006 -0.138475 0"
      rpy="0 0 0" />
    <parent
      link="r_arm_pitch" />
    <child
      link="r_arm_roll" />
    <axis
      xyz="1 0 0" />
    <limit velocity="1" effort="20" lower="-2.348" upper="0.35"/>
  </joint>
  <link
    name="r_arm_yaw">
    <inertial>
      <origin
        xyz="-0.000194980244391282 0.00223075394549072 -0.0832363148203374"
        rpy="0 0 0" />
      <mass
        value="0.231645950350007" />
      <inertia
        ixx="7.15747672025054E-05"
        ixy="7.20299540431297E-07"
        ixz="1.30045936565256E-07"
        iyy="0.00011606243891087"
        iyz="3.24540546737595E-06"
        izz="0.000102450220317482" />
    </inertial>
    <visual>
      <origin
        xyz="0 0 0"
        rpy="0 0 0" />
      <geometry>
        <mesh
          filename="package://kuavo_with_finger/meshes/r_arm_yaw.STL" />
      </geometry>
      <material
        name="">
        <color
          rgba="1 1 1 1" />
      </material>
    </visual>
    <collision>
      <origin
        xyz="0 0 0"
        rpy="0 0 0" />
      <geometry>
        <mesh
          filename="package://kuavo_with_finger/meshes/r_arm_yaw.STL" />
      </geometry>
    </collision>
  </link>
  <joint
    name="r_arm_yaw"
    type="revolute">
    <origin
      xyz="-0.0436749999999998 0 -0.0497499999999998"
      rpy="0 0 0" />
    <parent
      link="r_arm_roll" />
    <child
      link="r_arm_yaw" />
    <axis
      xyz="0 0 1" />
    <limit velocity="1" effort="20" lower="-2.355" upper="2.355"/>
  </joint>
  <link
    name="r_forearm_pitch">
    <inertial>
      <origin
        xyz="7.18032063147522E-09 -0.0235362732742576 -0.0656063288648233"
        rpy="0 0 0" />
      <mass
        value="0.082246913288193" />
      <inertia
        ixx="6.24507314646795E-05"
        ixy="-6.49100177707243E-12"
        ixz="3.72289407987064E-12"
        iyy="5.81112784382459E-05"
        iyz="-1.22265695808957E-05"
        izz="6.28297615311349E-05" />
    </inertial>
    <visual>
      <origin
        xyz="0 0 0"
        rpy="0 0 0" />
      <geometry>
        <mesh
          filename="package://kuavo_with_finger/meshes/r_forearm_pitch.STL" />
      </geometry>
      <material
        name="">
        <color
          rgba="1 1 1 1" />
      </material>
    </visual>
    <collision>
      <origin
        xyz="0 0 0"
        rpy="0 0 0" />
      <geometry>
        <mesh
          filename="package://kuavo_with_finger/meshes/r_forearm_pitch.STL" />
      </geometry>
    </collision>
  </link>
  <joint
    name="r_forearm_pitch"
    type="revolute">
    <origin
      xyz="0 0.0302500000000003 -0.1377"
      rpy="0 0 0" />
    <parent
      link="r_arm_yaw" />
    <child
      link="r_forearm_pitch" />
    <axis
      xyz="0 1 0" />
    <limit velocity="1" effort="20" lower="-1.9" upper="1.9"/>
  </joint>
  <link
    name="r_forearm_yaw">
    <inertial>
      <origin
        xyz="-0.00399571587295026 -2.98574044384492E-05 -0.0656134416270269"
        rpy="0 0 0" />
      <mass
        value="0.156174142689454" />
      <inertia
        ixx="7.01871005830262E-05"
        ixy="1.62591814390724E-07"
        ixz="-4.54374332575993E-07"
        iyy="7.29165016216887E-05"
        iyz="7.35788438900935E-09"
        izz="6.87978478315219E-05" />
    </inertial>
    <visual>
      <origin
        xyz="0 0 0"
        rpy="0 0 0" />
      <geometry>
        <mesh
          filename="package://kuavo_with_finger/meshes/r_forearm_yaw.STL" />
      </geometry>
      <material
        name="">
        <color
          rgba="1 1 1 1" />
      </material>
    </visual>
    <collision>
      <origin
        xyz="0 0 0"
        rpy="0 0 0" />
      <geometry>
        <mesh
          filename="package://kuavo_with_finger/meshes/r_forearm_yaw.STL" />
      </geometry>
    </collision>
  </link>
  <joint
    name="r_forearm_yaw"
    type="revolute">
    <origin
      xyz="0 -0.0302500000000002 -0.0905499999999999"
      rpy="0 0 0" />
    <parent
      link="r_forearm_pitch" />
    <child
      link="r_forearm_yaw" />
    <axis
      xyz="0 0 1" />
    <limit velocity="1" effort="20" lower="-2.355" upper="2.355"/>
  </joint>
  <link
    name="r_hand_roll">
    <inertial>
      <origin
        xyz="0.0166010838484253 -1.21914575379467E-07 -1.70258151493963E-07"
        rpy="0 0 0" />
      <mass
        value="0.00225080086305129" />
      <inertia
        ixx="1.93486938959377E-07"
        ixy="-1.35418412773425E-12"
        ixz="9.16670576988486E-13"
        iyy="1.36599402900294E-07"
        iyz="2.34295717847431E-12"
        izz="3.17250989285096E-07" />
    </inertial>
    <visual>
      <origin
        xyz="0 0 0"
        rpy="0 0 0" />
      <geometry>
        <mesh
          filename="package://kuavo_with_finger/meshes/r_hand_roll.STL" />
      </geometry>
      <material
        name="">
        <color
          rgba="1 1 1 1" />
      </material>
    </visual>
    <collision>
      <origin
        xyz="0 0 0"
        rpy="0 0 0" />
      <geometry>
        <mesh
          filename="package://kuavo_with_finger/meshes/r_hand_roll.STL" />
      </geometry>
    </collision>
  </link>
  <joint
    name="r_hand_roll"
    type="revolute">
    <origin
      xyz="-0.02532161695 0 -0.1575"
      rpy="0 0 0" />
    <parent
      link="r_forearm_yaw" />
    <child
      link="r_hand_roll" />
    <axis
      xyz="1 0 0" />
    <limit velocity="1" effort="20" lower="-0.87" upper="1.22"/>
  </joint>
  <link
    name="r_hand_pitch">
    <inertial>
      <origin
        xyz="0.001089886593548 -4.45288878386796E-06 -0.0181398065222004"
        rpy="0 0 0" />
      <mass
        value="0.0107237407255481" />
      <inertia
        ixx="3.32173116328934E-06"
        ixy="1.76533413769124E-10"
        ixz="2.90800172719354E-07"
        iyy="3.19463135777178E-06"
        iyz="7.83302133739154E-10"
        izz="4.01935525539633E-06" />
    </inertial>
    <visual>
      <origin
        xyz="0 0 0"
        rpy="0 0 0" />
      <geometry>
        <mesh
          filename="package://kuavo_with_finger/meshes/r_hand_pitch.STL" />
      </geometry>
      <material
        name="">
        <color
          rgba="1 1 1 1" />
      </material>
    </visual>
    <collision>
      <origin
        xyz="0 0 0"
        rpy="0 0 0" />
      <geometry>
        <mesh
          filename="package://kuavo_with_finger/meshes/r_hand_pitch.STL" />
      </geometry>
    </collision>
  </link>
  <joint
    name="r_hand_pitch"
    type="revolute">
    <origin
      xyz="0.0213699999998786 0 0"
      rpy="0 0 0" />
    <parent
      link="r_hand_roll" />
    <child
      link="r_hand_pitch" />
    <axis
      xyz="0 1 0" />
    <limit velocity="1" effort="20" lower="-0.348" upper="0.348"/>
  </joint>
  <link
    name="r_joller">
    <inertial>
      <origin
        xyz="-0.00061110142335865 4.45873850618561E-08 -0.0464370262355641"
        rpy="0 0 0" />
      <mass
        value="0.371687924407132" />
      <inertia
        ixx="0.000270366770437061"
        ixy="-2.53922409357071E-09"
        ixz="-8.71323262016749E-07"
        iyy="0.000309394281660509"
        iyz="-3.30678160406155E-10"
        izz="0.000225602809765829" />
    </inertial>
    <visual>
      <origin
        xyz="0 0 0"
        rpy="0 0 0" />
      <geometry>
        <mesh
          filename="package://kuavo_with_finger/meshes/r_joller.STL" />
      </geometry>
      <material
        name="">
        <color
          rgba="1 1 1 1" />
      </material>
    </visual>
    <collision>
      <origin
        xyz="0 0 0"
        rpy="0 0 0" />
      <geometry>
        <mesh
          filename="package://kuavo_with_finger/meshes/r_joller.STL" />
      </geometry>
    </collision>
  </link>
  <joint
    name="r_joller"
    type="fixed">
    <origin
      xyz="0.00350657147881639 0 -0.0300550570864914"
      rpy="0 0 0" />
    <parent
      link="r_hand_pitch" />
    <child
      link="r_joller" />
    <axis
      xyz="0 0 0" />
  </joint>
  <link
    name="r_font_finger">
    <inertial>
      <origin
        xyz="-0.0190917944442062 2.91446176525767E-07 -0.0272512134044445"
        rpy="0 0 0" />
      <mass
        value="0.0498438783324761" />
      <inertia
        ixx="3.64413624252501E-05"
        ixy="5.31759132940813E-12"
        ixz="-3.35215805741581E-06"
        iyy="3.45514906738972E-05"
        iyz="5.08475814220684E-10"
        izz="1.20321022463421E-05" />
    </inertial>
    <visual>
      <origin
        xyz="0 0 0"
        rpy="0 0 0" />
      <geometry>
        <mesh
          filename="package://kuavo_with_finger/meshes/r_font_finger.STL" />
      </geometry>
      <material
        name="">
        <color
          rgba="1 1 1 1" />
      </material>
    </visual>
    <collision>
      <origin
        xyz="0 0 0"
        rpy="0 0 0" />
      <geometry>
        <mesh
          filename="package://kuavo_with_finger/meshes/r_font_finger.STL" />
      </geometry>
    </collision>
  </link>
  <joint
    name="r_font_finger"
    type="fixed">
    <origin
      xyz="0.035169 0 -0.11413"
      rpy="0 0 0" />
    <parent
      link="r_joller" />
    <child
      link="r_font_finger" />
    <axis
      xyz="-0.99989 0 0.014767" />
    <limit
      effort="0"
      velocity="0" />
  </joint>
  <link
    name="r_back_finger">
    <inertial>
      <origin
        xyz="0.0182787634775462 -1.80678449146487E-07 -0.0278028735845128"
        rpy="0 0 0" />
      <mass
        value="0.0498435390879933" />
      <inertia
        ixx="3.66175543928223E-05"
        ixy="-7.0518703249745E-12"
        ixz="2.62584365038859E-06"
        iyy="3.45511135681007E-05"
        iyz="-3.25513317953997E-10"
        izz="1.18554583408856E-05" />
    </inertial>
    <visual>
      <origin
        xyz="0 0 0"
        rpy="0 0 0" />
      <geometry>
        <mesh
          filename="package://kuavo_with_finger/meshes/r_back_finger.STL" />
      </geometry>
      <material
        name="">
        <color
          rgba="1 1 1 1" />
      </material>
    </visual>
    <collision>
      <origin
        xyz="0 0 0"
        rpy="0 0 0" />
      <geometry>
        <mesh
          filename="package://kuavo_with_finger/meshes/r_back_finger.STL" />
      </geometry>
    </collision>
  </link>
  <joint
    name="r_back_finger"
    type="fixed">
    <origin
      xyz="-0.038523 0 -0.11304"
      rpy="0 0 0" />
    <parent
      link="r_joller" />
    <child
      link="r_back_finger" />
    <axis
      xyz="0.99989 0 -0.014767" />
    <limit
      effort="0"
      velocity="0" />
  </joint>
  <link
    name="r_r_arm_bar">
    <inertial>
      <origin
        xyz="-0.00554151967108991 0.00107110730201643 8.01148413552277E-05"
        rpy="0 0 0" />
      <mass
        value="0.000933425431007405" />
      <inertia
        ixx="1.38437799892514E-08"
        ixy="-5.67273704047732E-09"
        ixz="5.77606254446982E-10"
        iyy="6.06871256289307E-08"
        iyz="8.20102664432753E-11"
        izz="5.37887825242E-08" />
    </inertial>
    <visual>
      <origin
        xyz="0 0 0"
        rpy="0 0 0" />
      <geometry>
        <mesh
          filename="package://kuavo_with_finger/meshes/r_r_arm_bar.STL" />
      </geometry>
      <material
        name="">
        <color
          rgba="1 1 1 1" />
      </material>
    </visual>
    <collision>
      <origin
        xyz="0 0 0"
        rpy="0 0 0" />
      <geometry>
        <mesh
          filename="package://kuavo_with_finger/meshes/r_r_arm_bar.STL" />
      </geometry>
    </collision>
  </link>
  <joint
    name="r_r_arm_bar"
    type="continuous">
    <origin
      xyz="0.0112999999984239 -0.024140000000002 -0.0759999999999971"
      rpy="0 0 0" />
    <parent
      link="r_forearm_yaw" />
    <child
      link="r_r_arm_bar" />
    <axis
      xyz="0 1 0" />
  </joint>
  <link
    name="r_r_arm_tendon">
    <inertial>
      <origin
        xyz="-0.00765635531259815 0.000132036112088063 -0.0409092469907192"
        rpy="0 0 0" />
      <mass
        value="0.00373178797597326" />
      <inertia
        ixx="2.52754726727089E-06"
        ixy="7.66038091816824E-10"
        ixz="-4.64401938883845E-07"
        iyy="2.64294079486177E-06"
        iyz="4.31244533041838E-09"
        izz="1.33020958334864E-07" />
    </inertial>
    <visual>
      <origin
        xyz="0 0 0"
        rpy="0 0 0" />
      <geometry>
        <mesh
          filename="package://kuavo_with_finger/meshes/r_r_arm_tendon.STL" />
      </geometry>
      <material
        name="">
        <color
          rgba="1 1 1 1" />
      </material>
    </visual>
    <collision>
      <origin
        xyz="0 0 0"
        rpy="0 0 0" />
      <geometry>
        <mesh
          filename="package://kuavo_with_finger/meshes/r_r_arm_tendon.STL" />
      </geometry>
    </collision>
  </link>
  <joint
    name="r_r_arm_tendon"
    type="continuous">
    <origin
      xyz="-0.0159983282022835 -0.0040000013363603 0.000231289282113974"
      rpy="0 0 0" />
    <parent
      link="r_r_arm_bar" />
    <child
      link="r_r_arm_tendon" />
    <axis
      xyz="0 1 0" />
  </joint>
  <link
    name="r_l_arm_bar">
    <inertial>
      <origin
        xyz="-0.00554152066507212 -0.00107110729779245 8.0046020958735E-05"
        rpy="0 0 0" />
      <mass
        value="0.000933425428650283" />
      <inertia
        ixx="1.38437660740365E-08"
        ixy="5.67273800803533E-09"
        ixz="5.77125012060783E-10"
        iyy="6.06871256776918E-08"
        iyz="-8.19431480269534E-11"
        izz="5.37887964707832E-08" />
    </inertial>
    <visual>
      <origin
        xyz="0 0 0"
        rpy="0 0 0" />
      <geometry>
        <mesh
          filename="package://kuavo_with_finger/meshes/r_l_arm_bar.STL" />
      </geometry>
      <material
        name="">
        <color
          rgba="1 1 1 1" />
      </material>
    </visual>
    <collision>
      <origin
        xyz="0 0 0"
        rpy="0 0 0" />
      <geometry>
        <mesh
          filename="package://kuavo_with_finger/meshes/r_l_arm_bar.STL" />
      </geometry>
    </collision>
  </link>
  <joint
    name="r_l_arm_bar"
    type="continuous">
    <origin
      xyz="0.0113000000048921 0.024139999999997 -0.1145"
      rpy="0 0 0" />
    <parent
      link="r_forearm_yaw" />
    <child
      link="r_l_arm_bar" />
    <axis
      xyz="0 -1 0" />
  </joint>
  <link
    name="r_l_arm_tendon">
    <inertial>
      <origin
        xyz="-0.00762999220333973 -0.000169588775282475 -0.0214971867253593"
        rpy="0 0 0" />
      <mass
        value="0.0026624084343365" />
      <inertia
        ixx="5.94886471341227E-07"
        ixy="-9.09725188142654E-10"
        ixz="-1.96376428049484E-07"
        iyy="6.92975761839731E-07"
        iyz="-1.78984774648677E-09"
        izz="1.1095058280343E-07" />
    </inertial>
    <visual>
      <origin
        xyz="0 0 0"
        rpy="0 0 0" />
      <geometry>
        <mesh
          filename="package://kuavo_with_finger/meshes/r_l_arm_tendon.STL" />
      </geometry>
      <material
        name="">
        <color
          rgba="1 1 1 1" />
      </material>
    </visual>
    <collision>
      <origin
        xyz="0 0 0"
        rpy="0 0 0" />
      <geometry>
        <mesh
          filename="package://kuavo_with_finger/meshes/r_l_arm_tendon.STL" />
      </geometry>
    </collision>
  </link>
  <joint
    name="r_l_arm_tendon"
    type="continuous">
    <origin
      xyz="-0.0159983310229197 0.00400002806712421 0.000231094095741222"
      rpy="0 0 0" />
    <parent
      link="r_l_arm_bar" />
    <child
      link="r_l_arm_tendon" />
    <axis
      xyz="0 -1 0" />
  </joint>
  <link
    name="real_camera_link">
    <inertial>
      <origin
        xyz="-0.0092126631565575 -0.00134236481905095 -0.000223201290186881"
        rpy="0 0 0" />
      <mass
        value="0.0173287679990781" />
      <inertia
        ixx="1.14349973374258E-05"
        ixy="-1.05355726979727E-07"
        ixz="-1.05868132715489E-08"
        iyy="9.5531115778752E-07"
        iyz="-1.61190264385732E-08"
        izz="1.07055967101248E-05" />
    </inertial>
    <visual>
      <origin
        xyz="0 0 0"
        rpy="0 0 0" />
      <geometry>
        <mesh
          filename="package://kuavo_with_finger/meshes/real_camera_link.STL" />
      </geometry>
      <material
        name="">
        <color
          rgba="0.8 0.2 0.2 1" />
      </material>
    </visual>
    <collision>
      <origin
        xyz="0 0 0"
        rpy="0 0 0" />
      <geometry>
        <mesh
          filename="package://kuavo_with_finger/meshes/real_camera_link.STL" />
      </geometry>
    </collision>
  </link>
  <joint
    name="camera_joint"
    type="fixed">
    <origin
      xyz="0.0785069626029681 0.0026634618536251 0.47328376128836"
      rpy="0 0.610865238198015 0" />
    <parent
      link="base_link" />
    <child
      link="real_camera_link" />
    <axis
      xyz="0 0 0" />
  </joint>
</robot>
